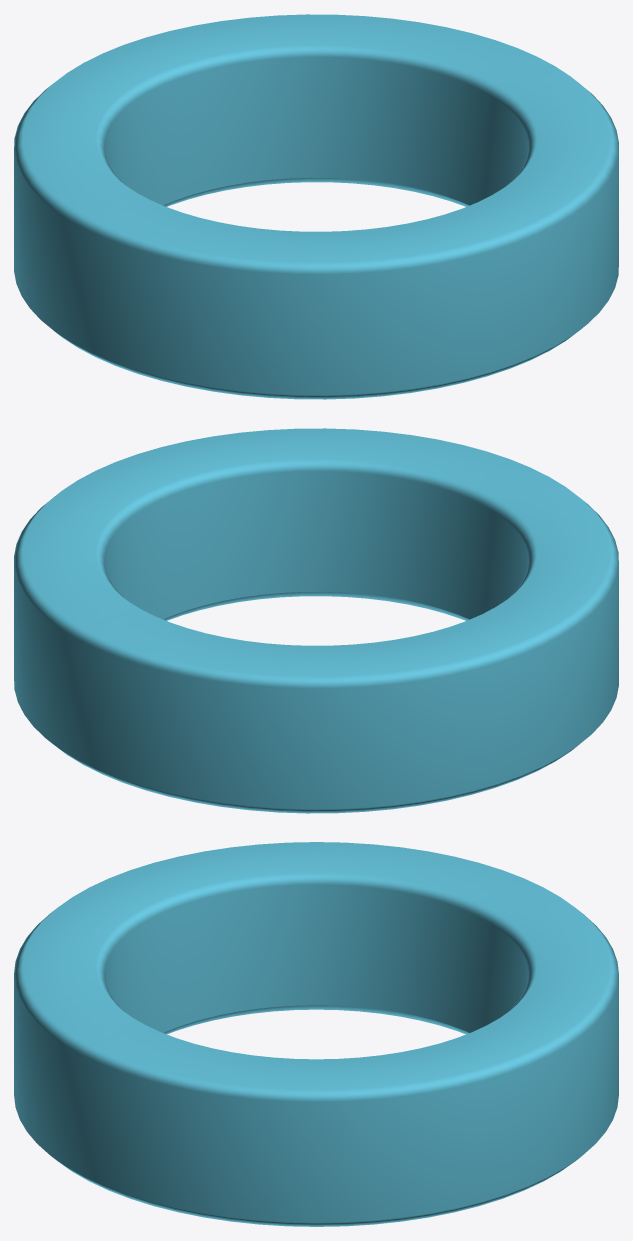
3 views of the same model, one above another, from view 1: azimuth 30°, elevation 25°; view 2: azimuth 150°, elevation 25°; view 3: azimuth 270°, elevation 25° (orthographic).
Visible parts, largest first — view 1: seal_body; view 2: seal_body; view 3: seal_body.
Part boxes in pixels (x1,y1,x2,y2): seal_body: (14, 14, 618, 399); seal_body: (14, 428, 618, 813); seal_body: (14, 842, 618, 1226).
Size of the model in its own units: 0.0318 by 0.00793 by 0.0318.
